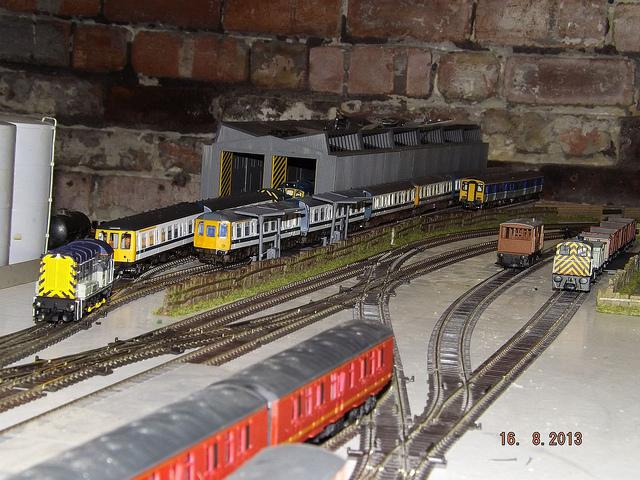Train: (19, 315, 395, 474), (193, 165, 515, 265), (95, 185, 299, 282), (544, 217, 638, 297), (496, 215, 602, 270), (461, 168, 544, 210)
